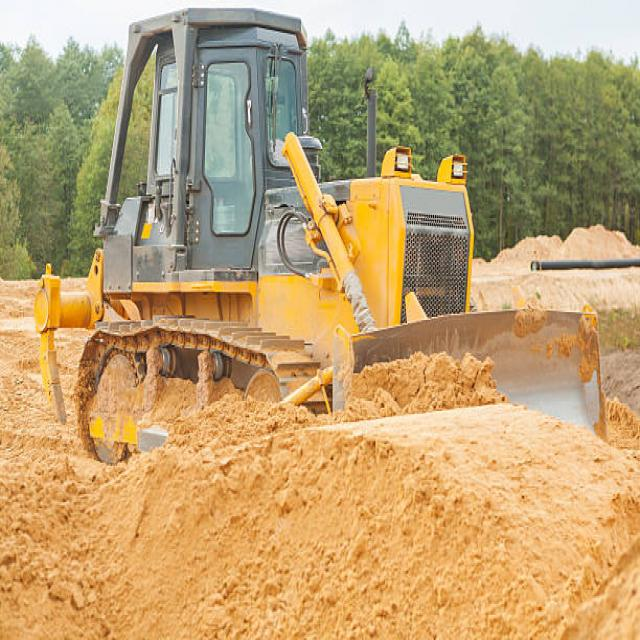Bulldozer: (34, 7, 608, 468)
